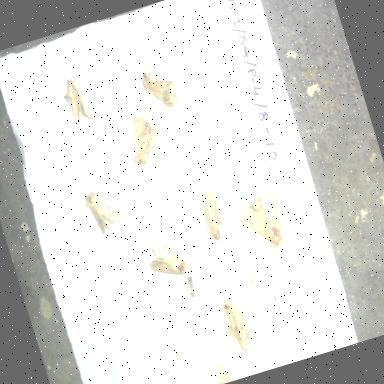abw: (225, 176, 296, 258), (114, 101, 178, 189), (136, 221, 201, 289), (68, 171, 128, 240), (210, 286, 264, 362), (50, 62, 104, 138), (184, 178, 232, 250), (132, 56, 188, 116)
